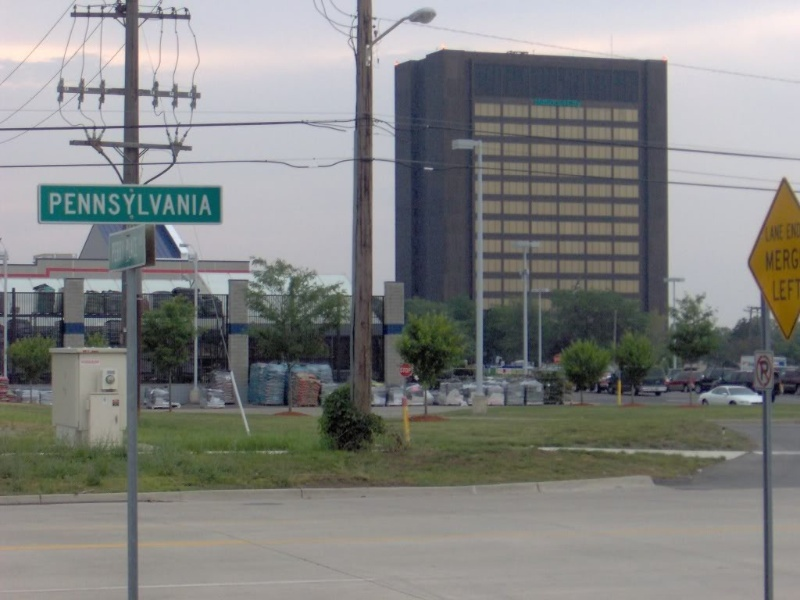text: (113, 232, 128, 265), (129, 232, 142, 265), (769, 247, 784, 272), (785, 247, 800, 272), (49, 193, 64, 217), (65, 193, 80, 217), (81, 193, 96, 217), (97, 193, 112, 217), (113, 193, 128, 217), (129, 193, 144, 217), (145, 193, 160, 217), (161, 193, 176, 217), (177, 193, 192, 217), (193, 193, 208, 217), (785, 278, 800, 301), (769, 224, 784, 243), (772, 278, 784, 301), (786, 222, 800, 240), (758, 358, 768, 383), (545, 97, 560, 108), (561, 97, 576, 108), (533, 97, 544, 108), (209, 193, 214, 217), (109, 232, 112, 265), (769, 358, 772, 383), (577, 97, 583, 108), (401, 368, 411, 374), (765, 224, 768, 243), (766, 247, 768, 272)
